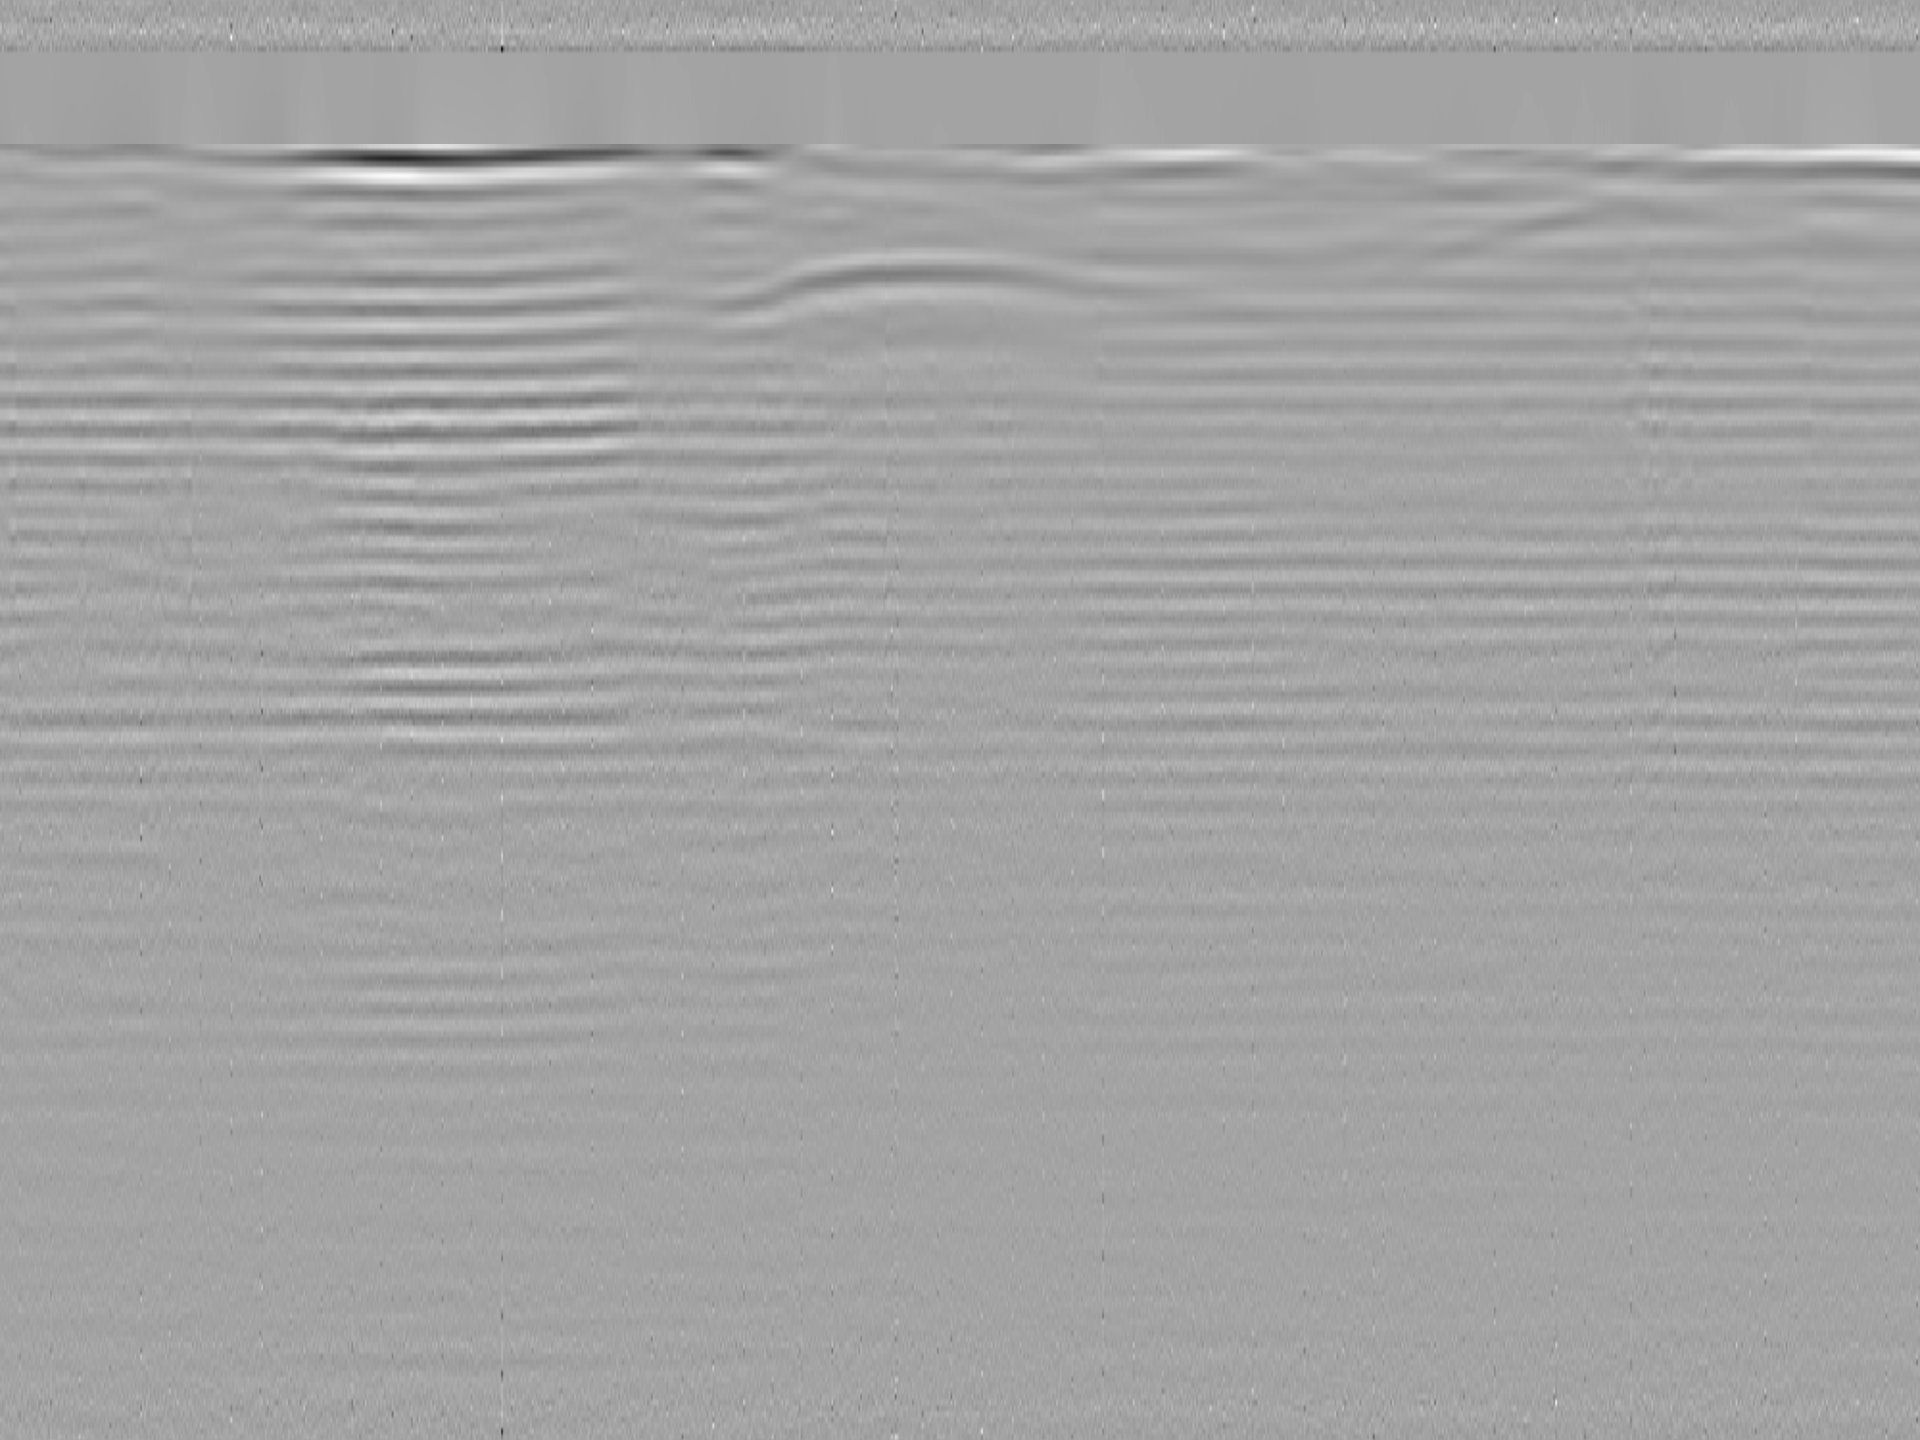Tunnel: (726, 256, 1129, 319)
